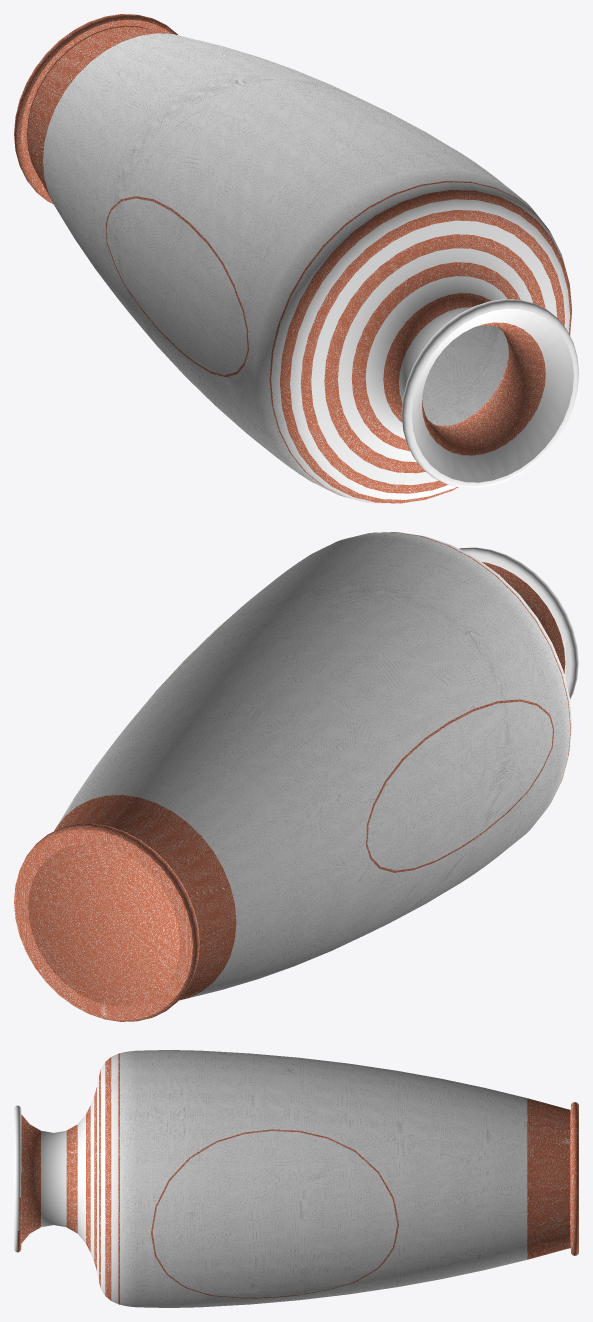
The model's file is model_align.obj.
The picture shows the model from 3 angles, top to bottom: view 1: azimuth 30°, elevation 25°; view 2: azimuth 150°, elevation 25°; view 3: azimuth 270°, elevation 25°; orthographic projection. The views are drawn at different scales.
Visible parts, largest first — view 1: mesh1_mesh1-geometry; view 2: mesh1_mesh1-geometry; view 3: mesh1_mesh1-geometry.
Part boxes in pixels (box(x1,y1,x2,y2)): mesh1_mesh1-geometry: box(14, 14, 578, 503); mesh1_mesh1-geometry: box(14, 532, 578, 1021); mesh1_mesh1-geometry: box(14, 1050, 578, 1307).
Size of the model in its own units: 0.0625 by 0.0625 by 0.1364.
